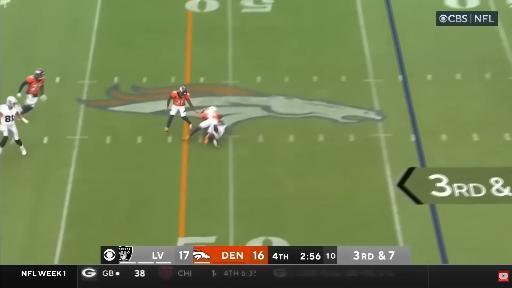Helmet: (7, 96, 17, 106), (35, 69, 44, 80), (179, 86, 187, 97), (201, 107, 208, 113), (219, 120, 226, 125)
Jersey: (0, 105, 18, 125), (27, 76, 45, 96), (172, 91, 190, 106), (200, 107, 218, 119)
Player: (0, 96, 28, 155), (165, 87, 198, 132), (17, 69, 46, 114), (185, 107, 222, 140), (205, 120, 226, 147)
